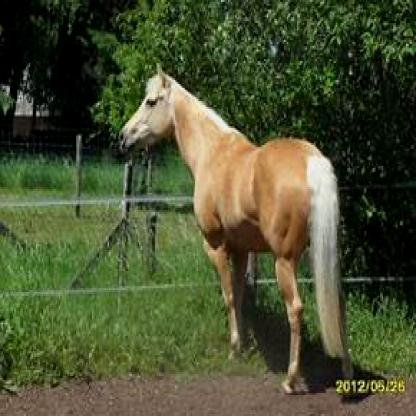horse: (118, 59, 356, 401)
